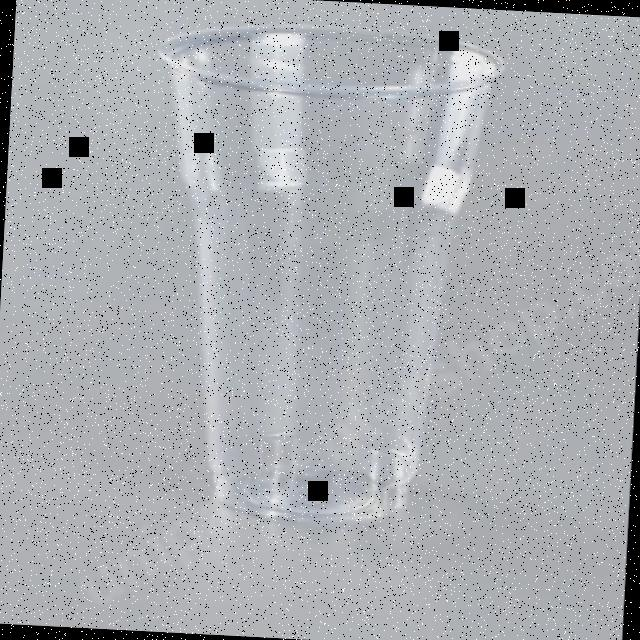plastic_box: (138, 18, 508, 538)
